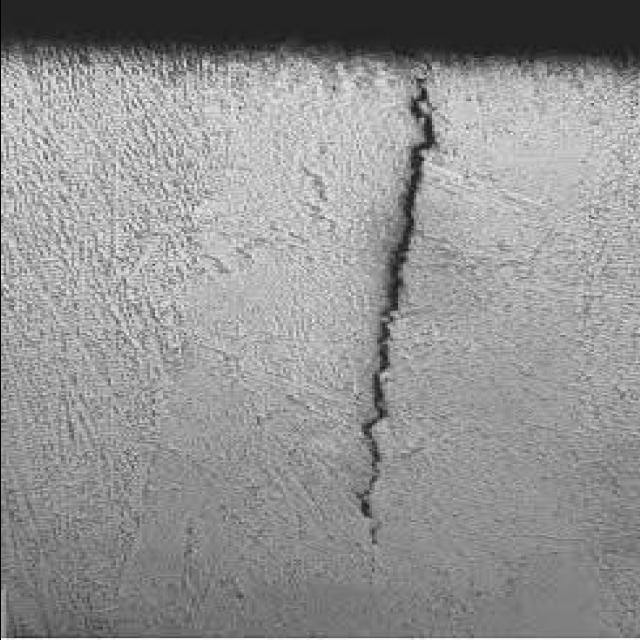defect: (347, 70, 445, 530)
